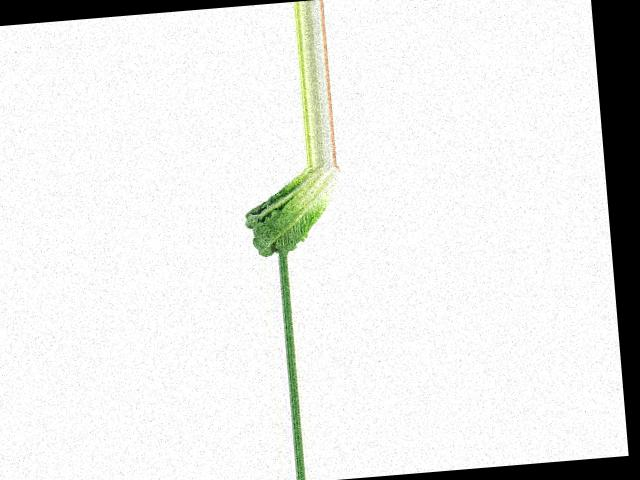lettuce: (239, 164, 347, 257)
